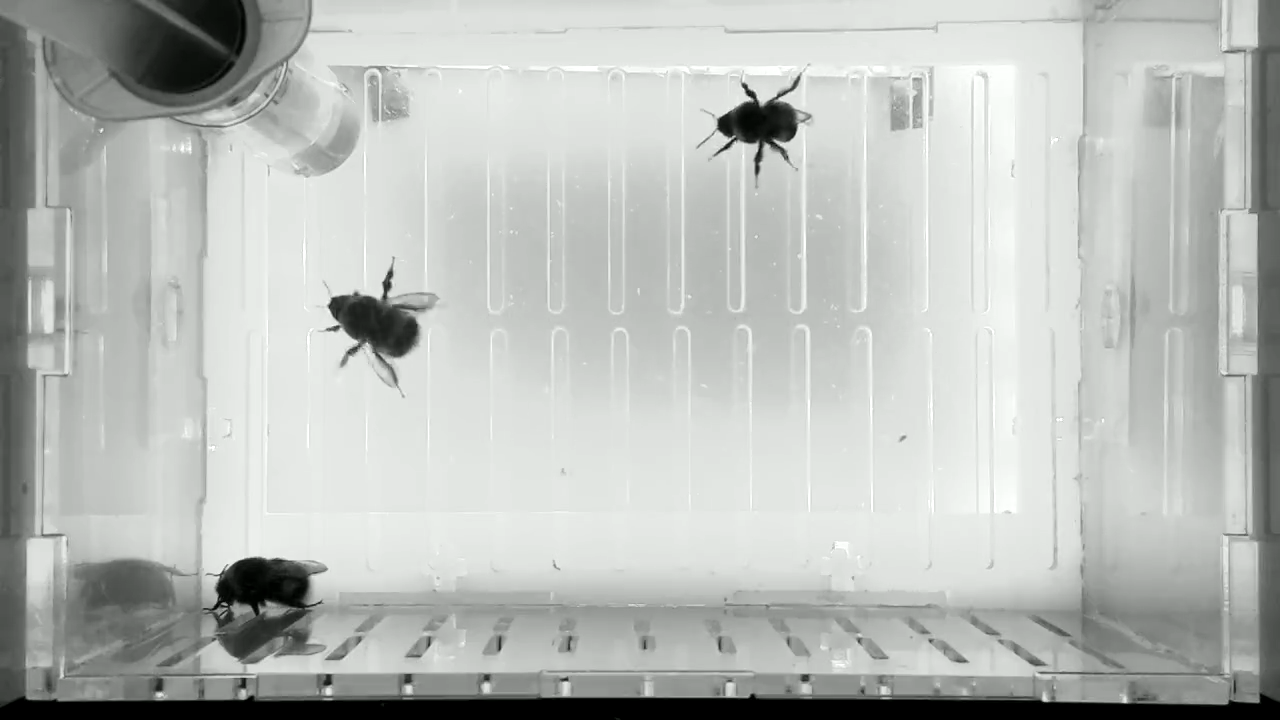bee_alive: (305, 253, 453, 403), (691, 62, 822, 194), (203, 553, 333, 618)
feeder: (206, 44, 367, 182)
